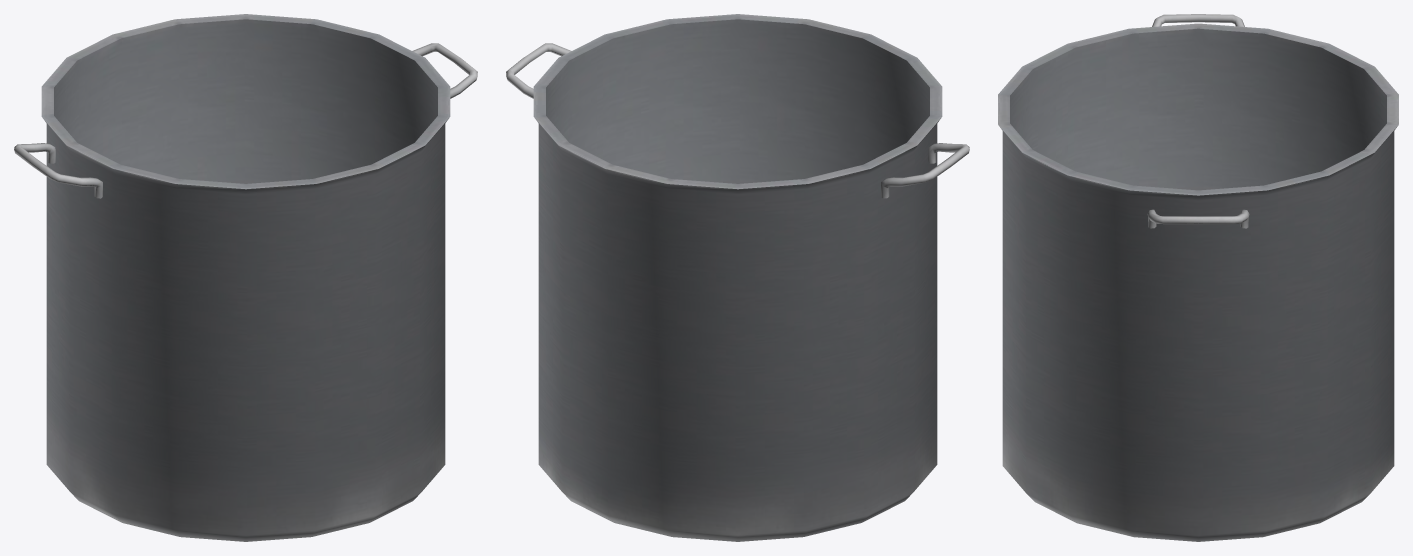
File: SM_Pot_01.glb
3 renders of one model, left to right at view 1: azimuth 30°, elevation 25°; view 2: azimuth 150°, elevation 25°; view 3: azimuth 270°, elevation 25°, orthographic.
Visible parts, largest first — view 1: SM_Pot_01; view 2: SM_Pot_01; view 3: SM_Pot_01.
Boxes of the visible parts, x1,y1,x2,y2 form: SM_Pot_01: [14, 14, 477, 541]; SM_Pot_01: [506, 14, 969, 541]; SM_Pot_01: [998, 14, 1398, 541].
Size of the model in its own units: 0.4898 by 0.4 by 0.4036.
Materials: 1 (1 with a texture image).
